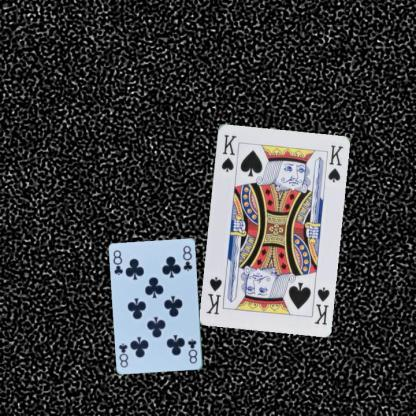8c: (110, 248, 124, 277), (186, 336, 198, 365)
Ks: (219, 132, 238, 173), (312, 284, 330, 326)
